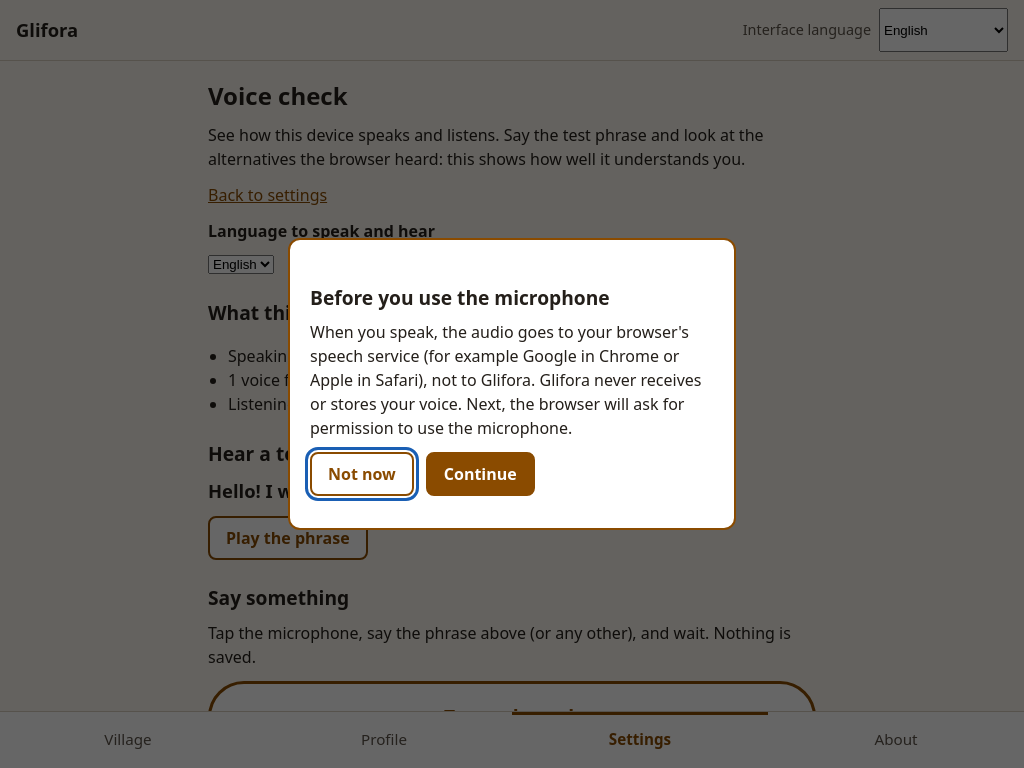
it: /settings/voice › Agora não: o microfone nunca abre
The width and height of the screenshot is (1024, 768).
Earlier steps of the test are not shown.
Click the button "Not now" at [362, 474], box x1=310 y1=452 x2=414 y2=496
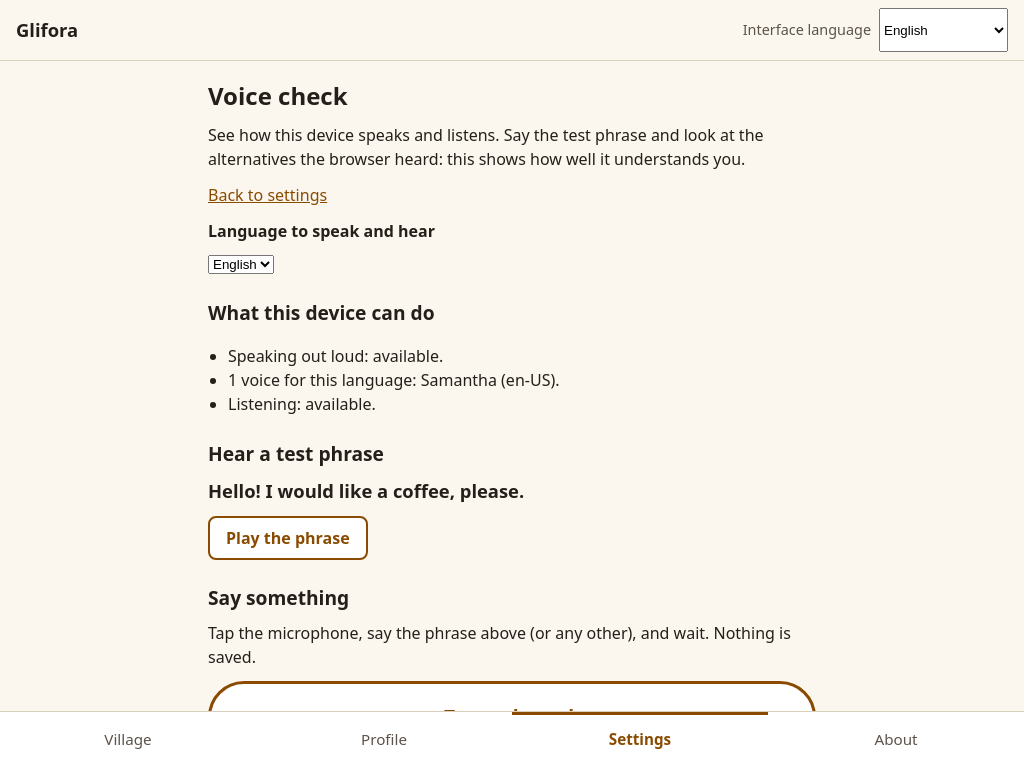
Result: the text "When you speak, the audio goes to your browser's speech service (for example Google in Chrome or Apple in Safari), not t" is gone
